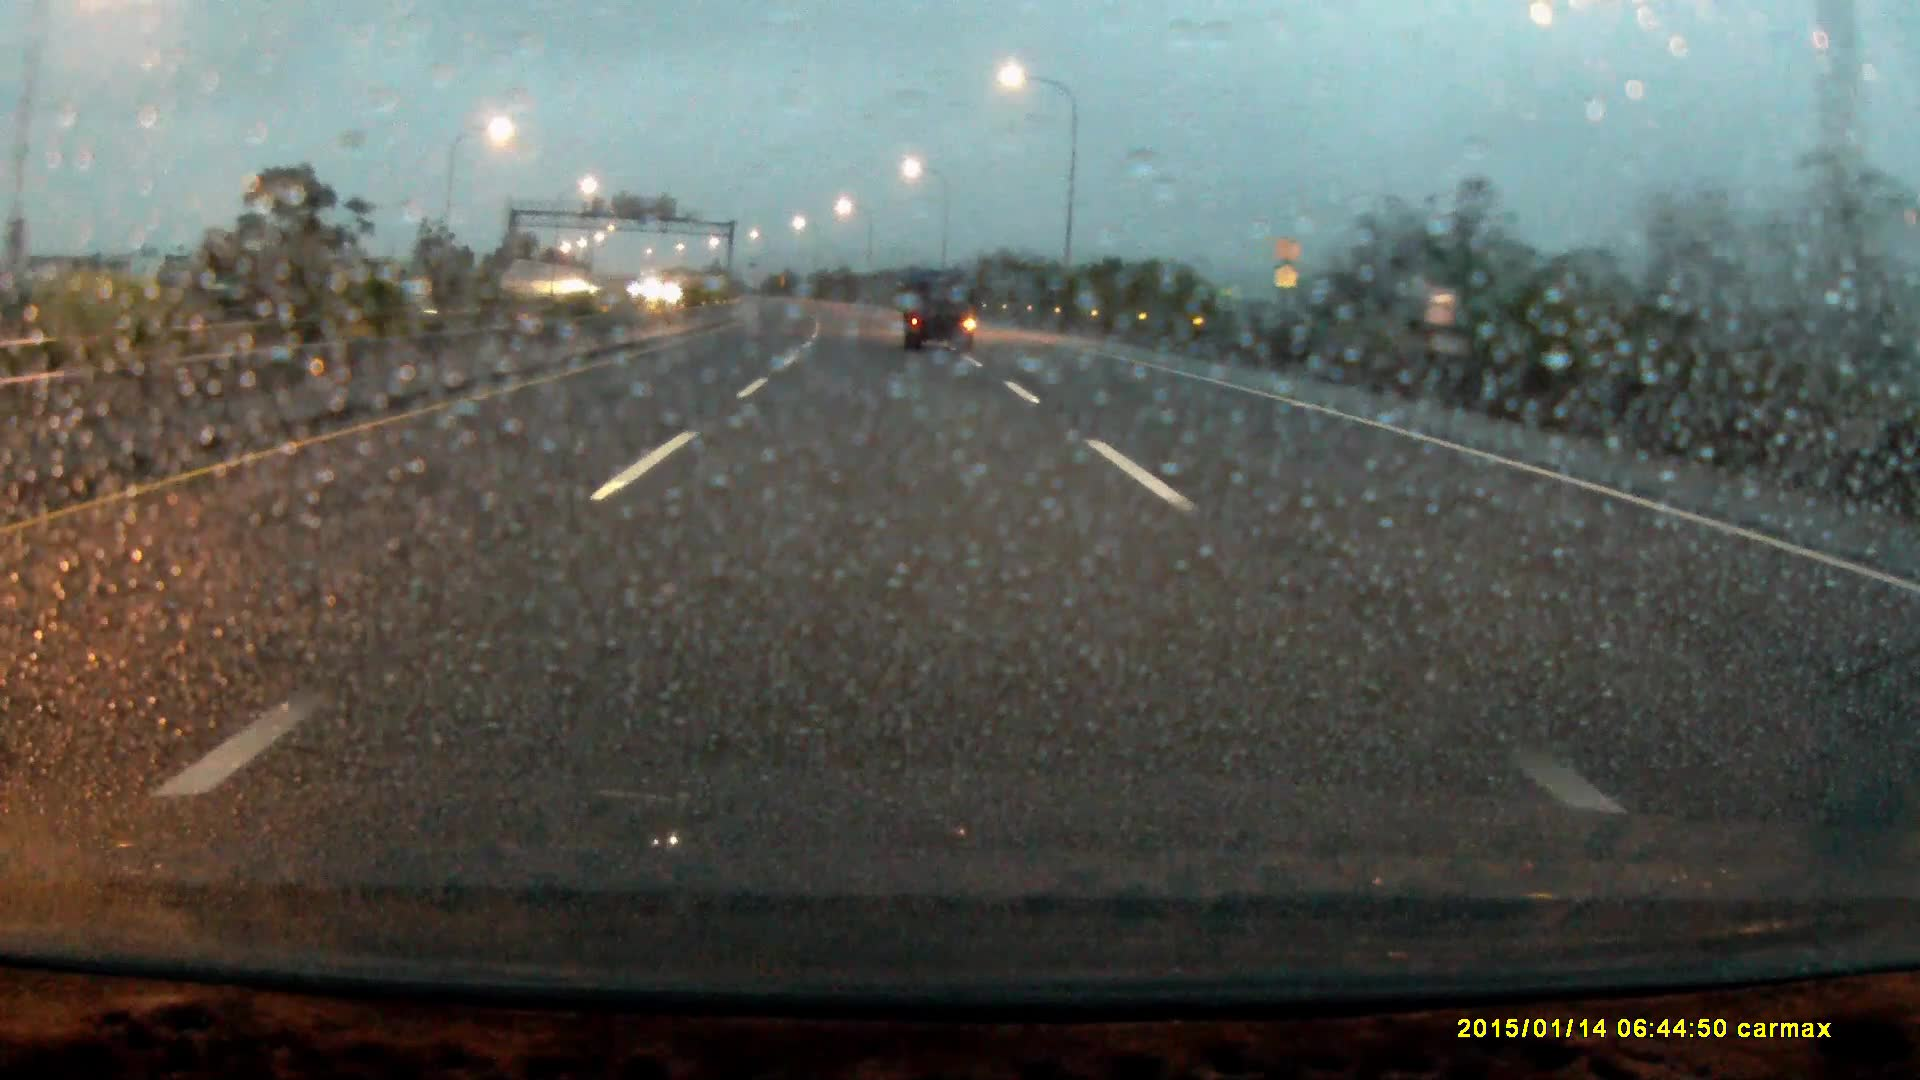vehicle: (903, 272, 978, 355)
